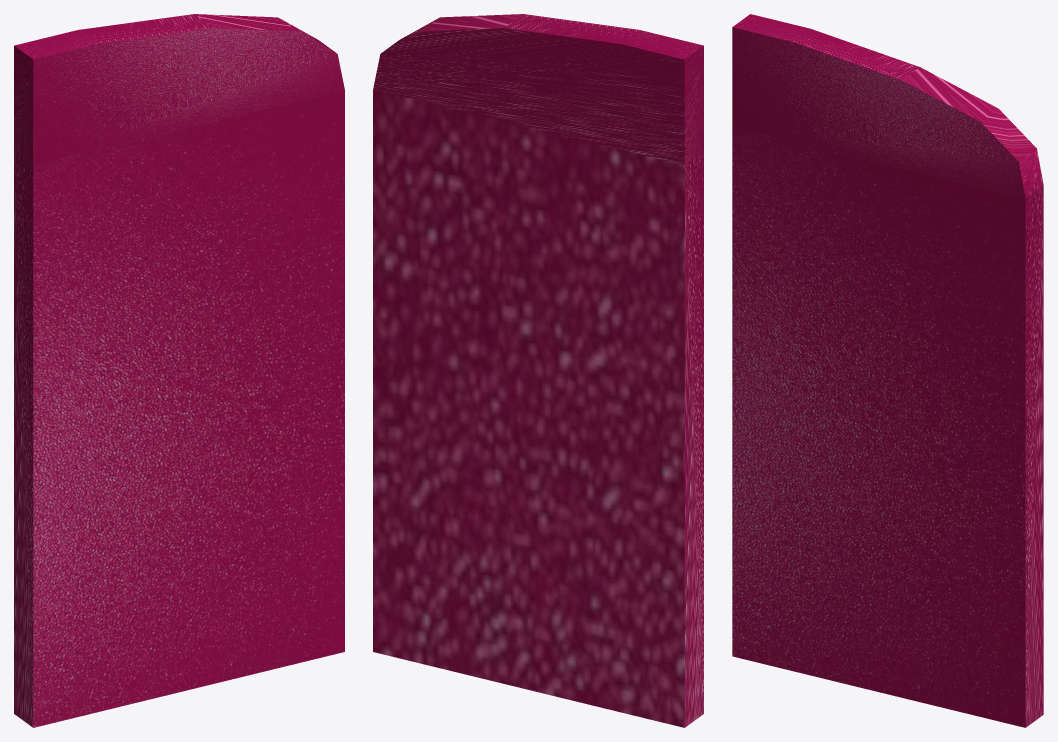
File: Porton_der.obj
3 renders of one model, left to right at view 1: azimuth 30°, elevation 25°; view 2: azimuth 150°, elevation 25°; view 3: azimuth 330°, elevation 25°, orthographic. The views are drawn at different scales.
Parts seen in each view (by area): view 1: pasted__polySurface84 pasted__polySurface81 group30; view 2: pasted__polySurface84 pasted__polySurface81 group30; view 3: pasted__polySurface84 pasted__polySurface81 group30.
Boxes of the visible parts, bbox=[...] form: pasted__polySurface84 pasted__polySurface81 group30: bbox=[14, 14, 344, 727]; pasted__polySurface84 pasted__polySurface81 group30: bbox=[373, 14, 703, 727]; pasted__polySurface84 pasted__polySurface81 group30: bbox=[732, 14, 1043, 727].
Size of the model in its own units: 0.409 by 0.8383 by 0.0437.
Materials: 2 (2 with a texture image).
